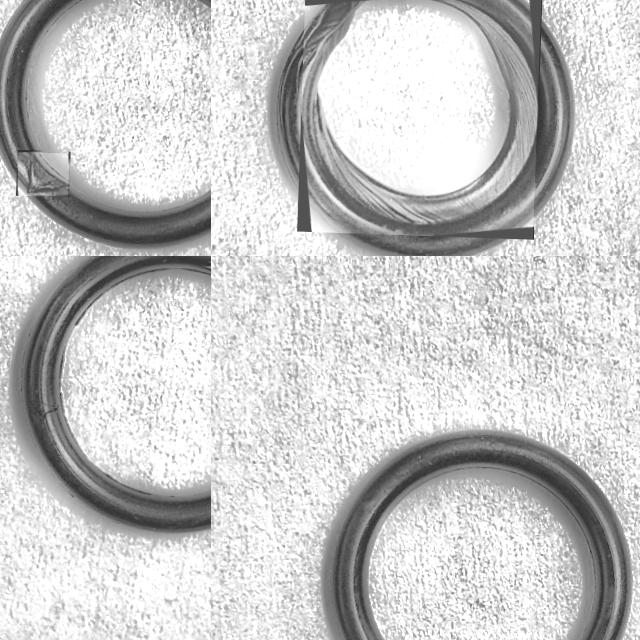切割缺陷: (296, 0, 366, 47), (17, 152, 68, 196), (32, 403, 59, 419)
裂纹: (301, 0, 537, 235), (75, 267, 211, 325), (58, 339, 87, 457), (96, 466, 153, 496)
